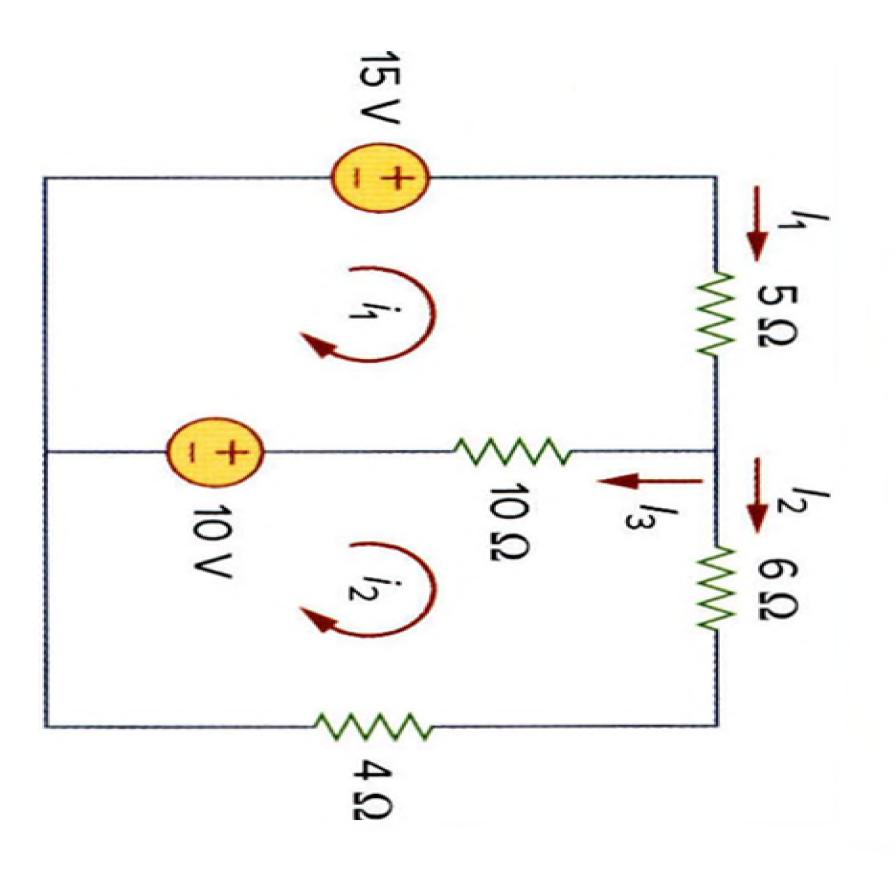V2: (167, 419, 262, 484), (333, 144, 425, 211)
